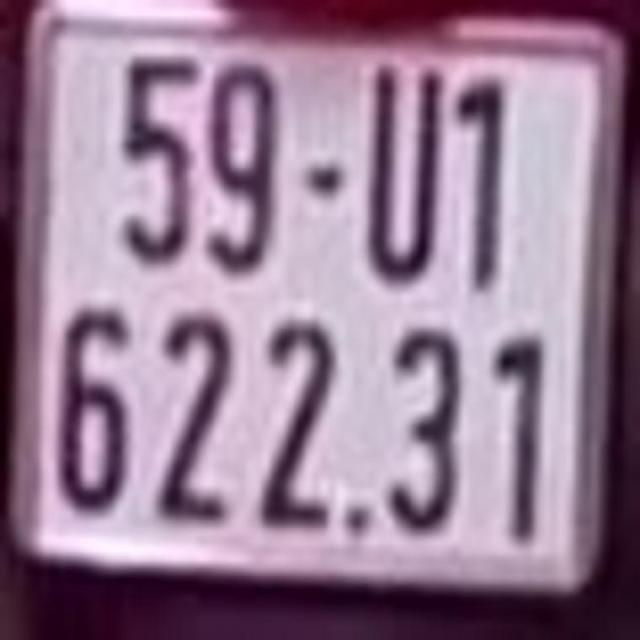1: (487, 324, 545, 548), (458, 72, 504, 293)
2: (260, 310, 334, 532), (154, 306, 227, 521)
3: (384, 316, 462, 538)
5: (120, 46, 197, 268)
6: (56, 300, 130, 510)
9: (205, 57, 278, 273)
U: (368, 56, 444, 294)
